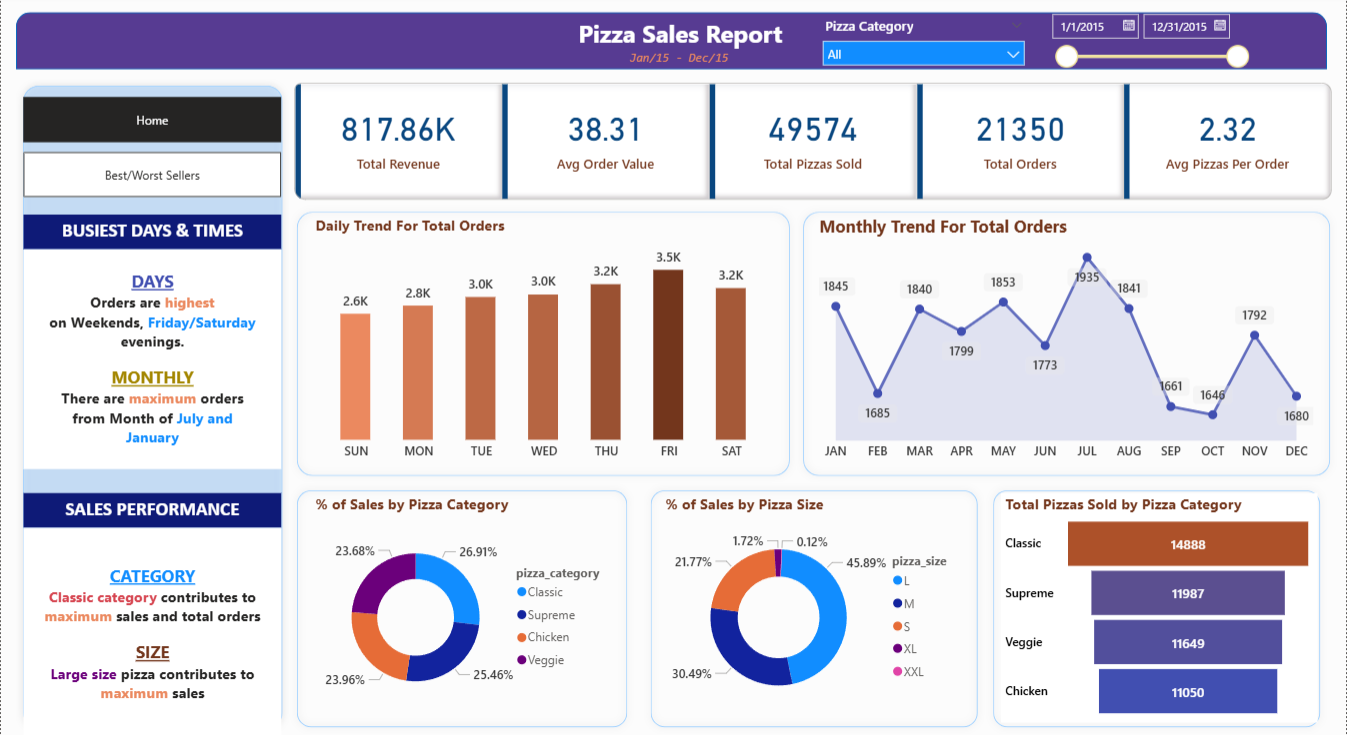

Layout of this report page (visuals, bound fields, positions):
{"tool":"powerbi","page":{"name":"Home","canvas":[1500,820],"ordinal":0},"visuals":[{"type":"shape","box":[16.2,87.5,305,732.5],"z":0},{"type":"cardVisual","fields":{"Data":["pizza_sales.Total Revenue","pizza_sales.Avg Order Value","pizza_sales.Total Pizzas Sold","pizza_sales.Total Orders","pizza_sales.Avg Pizzas Per Order"]},"box":[321.2,87.9,1168.2,140.9],"z":1000},{"type":"shape","box":[16.7,13.6,1460.6,63.6],"z":2000},{"type":"textbox","box":[628.8,13.6,257.6,47],"z":3000},{"type":"textbox","box":[687.9,50,134.8,27.3],"z":4000},{"type":"shape","box":[321.2,228.8,565.2,310.6],"z":5000},{"type":"columnChart","title":"Daily Trend For Total Orders","fields":{"Category":["pizza_sales.Order Day"],"Y":["pizza_sales.Total Orders"]},"box":[345.5,239.4,519.7,283.3],"z":6000},{"type":"shape","box":[886.4,228.8,603,310.6],"z":7000},{"type":"areaChart","title":"Monthly Trend For Total Orders","fields":{"Y":["pizza_sales.Total Orders"],"Category":["pizza_sales.Order Month"]},"box":[906.1,239.4,560.6,283.3],"z":8000},{"type":"shape","box":[321.2,539.4,384,280.3],"z":9000},{"type":"shape","box":[1097,539.4,380.3,280.3],"z":10000},{"type":"shape","box":[715.2,539.4,380.3,280.3],"z":11000},{"type":"donutChart","title":"% of Sales by Pizza Category","fields":{"Category":["pizza_sales.pizza_category"],"Y":["pizza_sales.Total Revenue"]},"box":[345.5,550,342.4,256.1],"z":12000},{"type":"donutChart","title":"% of Sales by Pizza Size","fields":{"Category":["pizza_sales.pizza_size"],"Y":["pizza_sales.Total Revenue"]},"box":[734.8,550,342.4,256.1],"z":13000},{"type":"funnel","title":"Total Pizzas Sold by Pizza Category","fields":{"Category":["pizza_sales.pizza_category"],"Y":["pizza_sales.Total Pizzas Sold"]},"box":[1113.8,550,352.5,256.2],"z":14000},{"type":"textbox","box":[25,240,287.5,38.8],"z":15000},{"type":"textbox","box":[25,278.8,287.5,245],"z":15001},{"type":"textbox","box":[25,550,287.5,38.8],"z":15002},{"type":"textbox","box":[25,588.8,287.5,231.2],"z":15003},{"type":"slicer","fields":{"Values":["pizza_sales.pizza_category"]},"box":[905,13.8,245,63.8],"z":15004},{"type":"slicer","fields":{"Values":["pizza_sales.Date"]},"box":[1158.8,5,240,73.8],"z":15005},{"type":"pageNavigator","box":[25,108.8,287.5,50],"z":15006},{"type":"pageNavigator","box":[25,170,287.5,50],"z":15007}]}

Visuals, with their boxes in screenshot pixels (x1, y1, x2, y2), scaled from the page's 1500x820 canvas onto the 1347x735 screenshot:
shape: [x1=15, y1=78, x2=288, y2=734]
cardVisual - pizza_sales.Total Revenue x pizza_sales.Avg Order Value: [x1=288, y1=79, x2=1337, y2=205]
shape: [x1=15, y1=12, x2=1327, y2=69]
textbox: [x1=565, y1=12, x2=796, y2=54]
textbox: [x1=618, y1=45, x2=739, y2=69]
shape: [x1=288, y1=205, x2=796, y2=483]
"Daily Trend For Total Orders" columnChart: [x1=310, y1=215, x2=777, y2=469]
shape: [x1=796, y1=205, x2=1337, y2=483]
"Monthly Trend For Total Orders" areaChart: [x1=814, y1=215, x2=1317, y2=469]
shape: [x1=288, y1=483, x2=633, y2=734]
shape: [x1=985, y1=483, x2=1327, y2=734]
shape: [x1=642, y1=483, x2=984, y2=734]
"% of Sales by Pizza Category" donutChart: [x1=310, y1=493, x2=618, y2=723]
"% of Sales by Pizza Size" donutChart: [x1=660, y1=493, x2=967, y2=723]
"Total Pizzas Sold by Pizza Category" funnel: [x1=1000, y1=493, x2=1317, y2=723]
textbox: [x1=22, y1=215, x2=281, y2=250]
textbox: [x1=22, y1=250, x2=281, y2=470]
textbox: [x1=22, y1=493, x2=281, y2=528]
textbox: [x1=22, y1=528, x2=281, y2=734]
slicer - pizza_sales.pizza_category: [x1=813, y1=12, x2=1033, y2=70]
slicer - pizza_sales.Date: [x1=1041, y1=4, x2=1256, y2=71]
pageNavigator: [x1=22, y1=98, x2=281, y2=142]
pageNavigator: [x1=22, y1=152, x2=281, y2=197]
